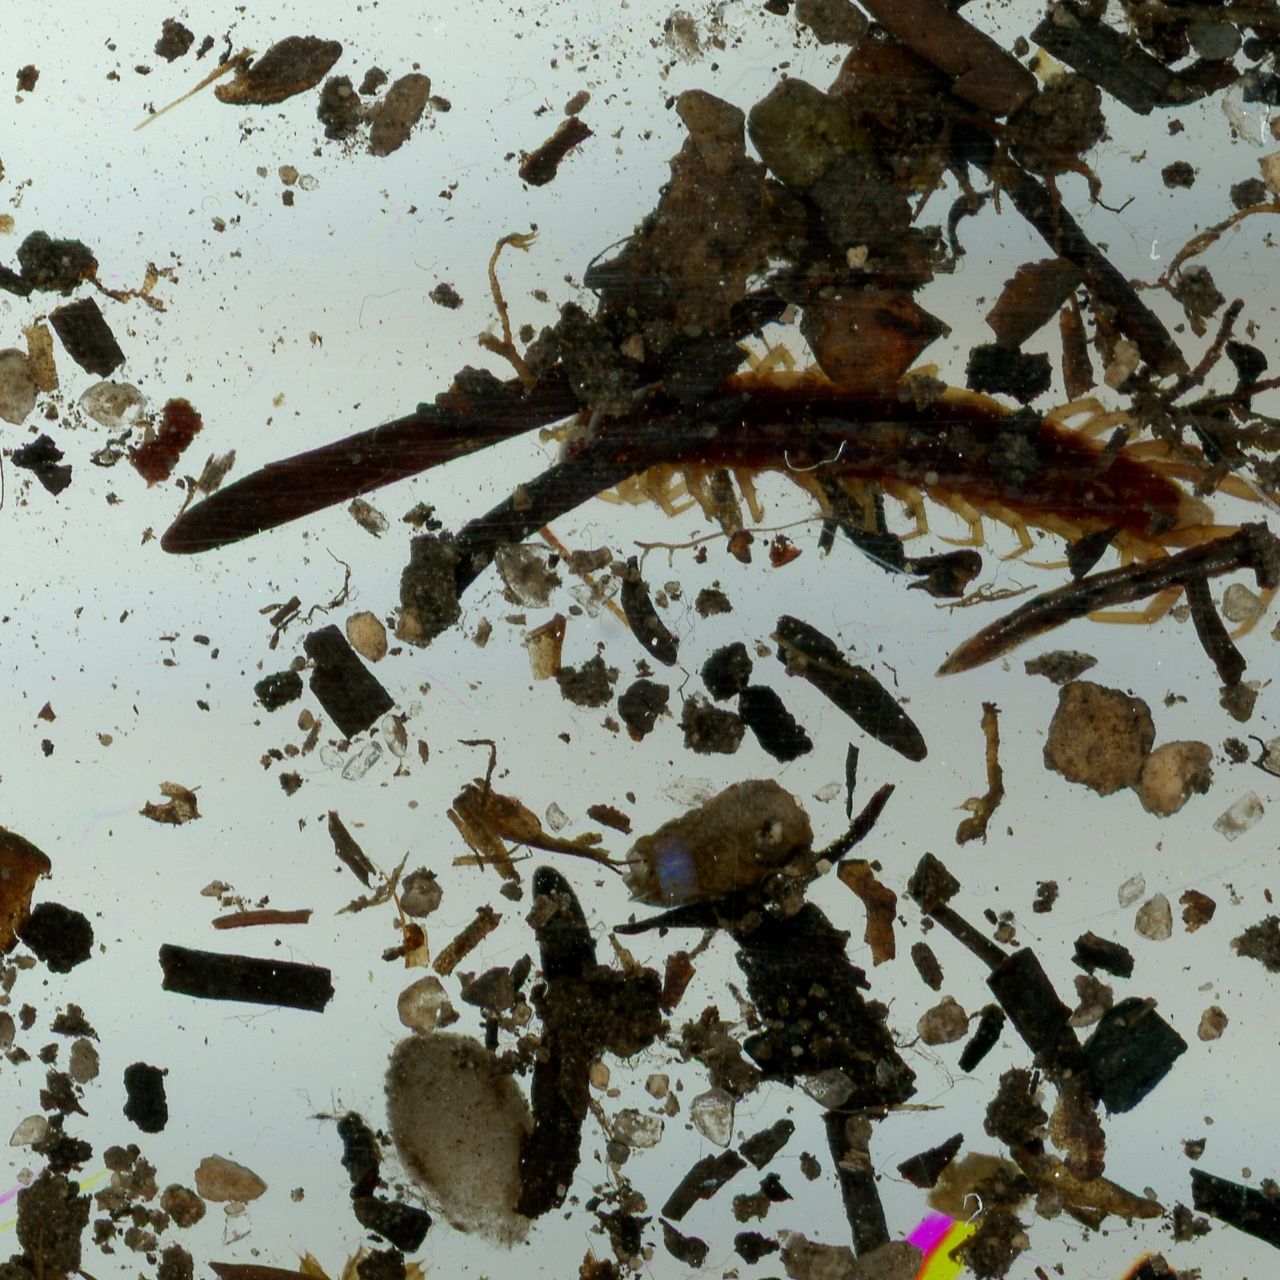arthropod: (559, 346, 1280, 649)
